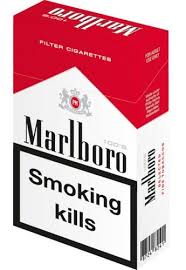marlboro: (15, 43, 134, 248)
